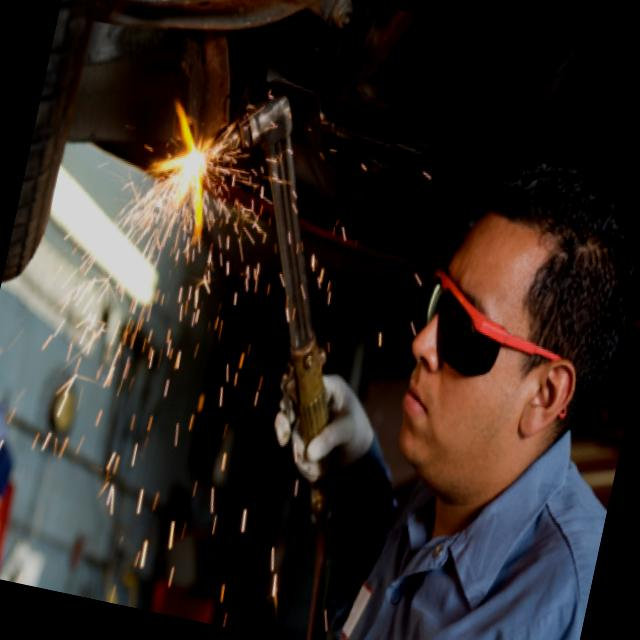goggles: (398, 258, 593, 428)
no-helmet: (435, 145, 640, 294)
no-vest: (335, 459, 607, 640)
